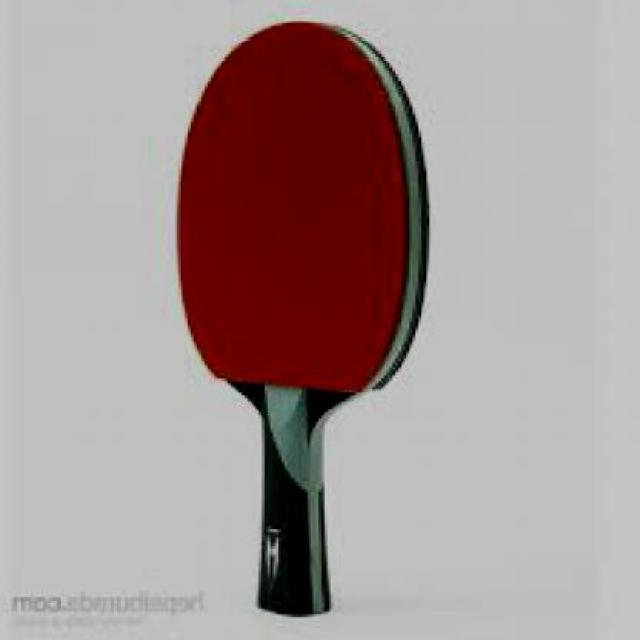table_tennis_racket: (167, 10, 431, 424)
